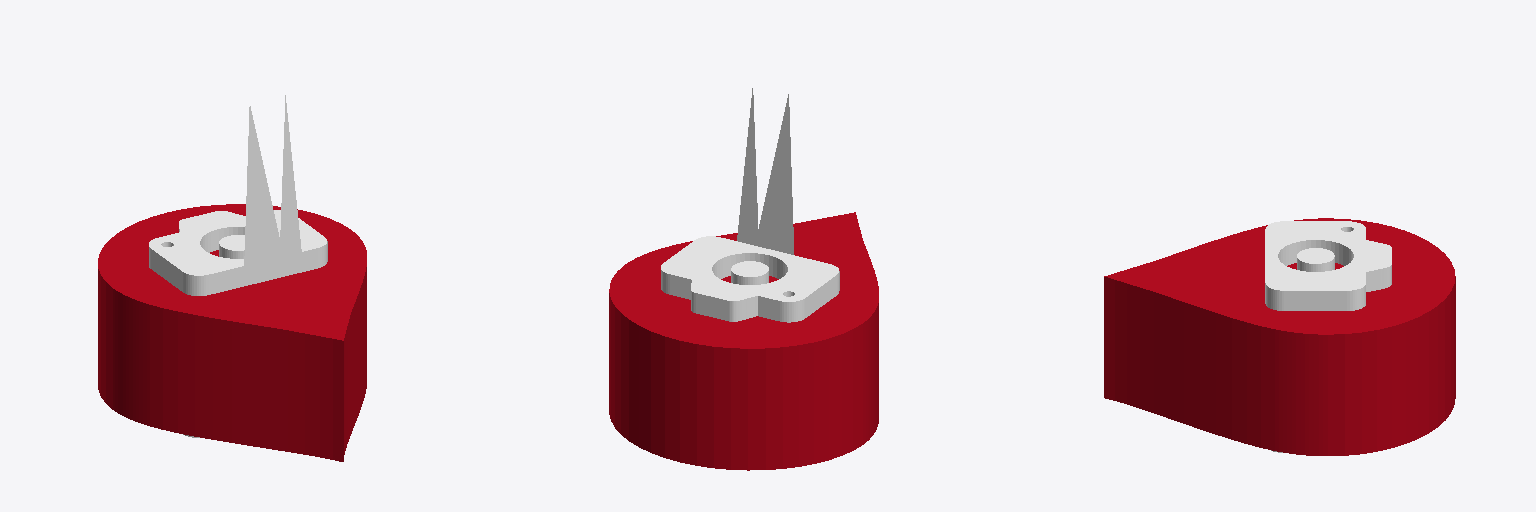
The model's file is attraction.obj.
3 renders of one model, left to right at view 1: azimuth 30°, elevation 25°; view 2: azimuth 150°, elevation 25°; view 3: azimuth 270°, elevation 25°, orthographic.
Visible parts, largest first — view 1: Curve, Curve.005_rect7143, Curve.001; view 2: Curve, Curve.005_rect7143, Curve.001; view 3: Curve, Curve.005_rect7143, Curve.001.
Boxes of the visible parts, x1,y1,x2,y2 form: Curve: [98, 252, 366, 461]; Curve.005_rect7143: [149, 95, 327, 437]; Curve.001: [98, 204, 366, 304]; Curve: [609, 212, 878, 470]; Curve.005_rect7143: [661, 88, 839, 322]; Curve.001: [609, 248, 878, 348]; Curve: [1104, 225, 1455, 455]; Curve.005_rect7143: [1265, 221, 1391, 452]; Curve.001: [1275, 218, 1455, 334].
Size of the model in its own units: 0.0062 by 0.008 by 0.0078.